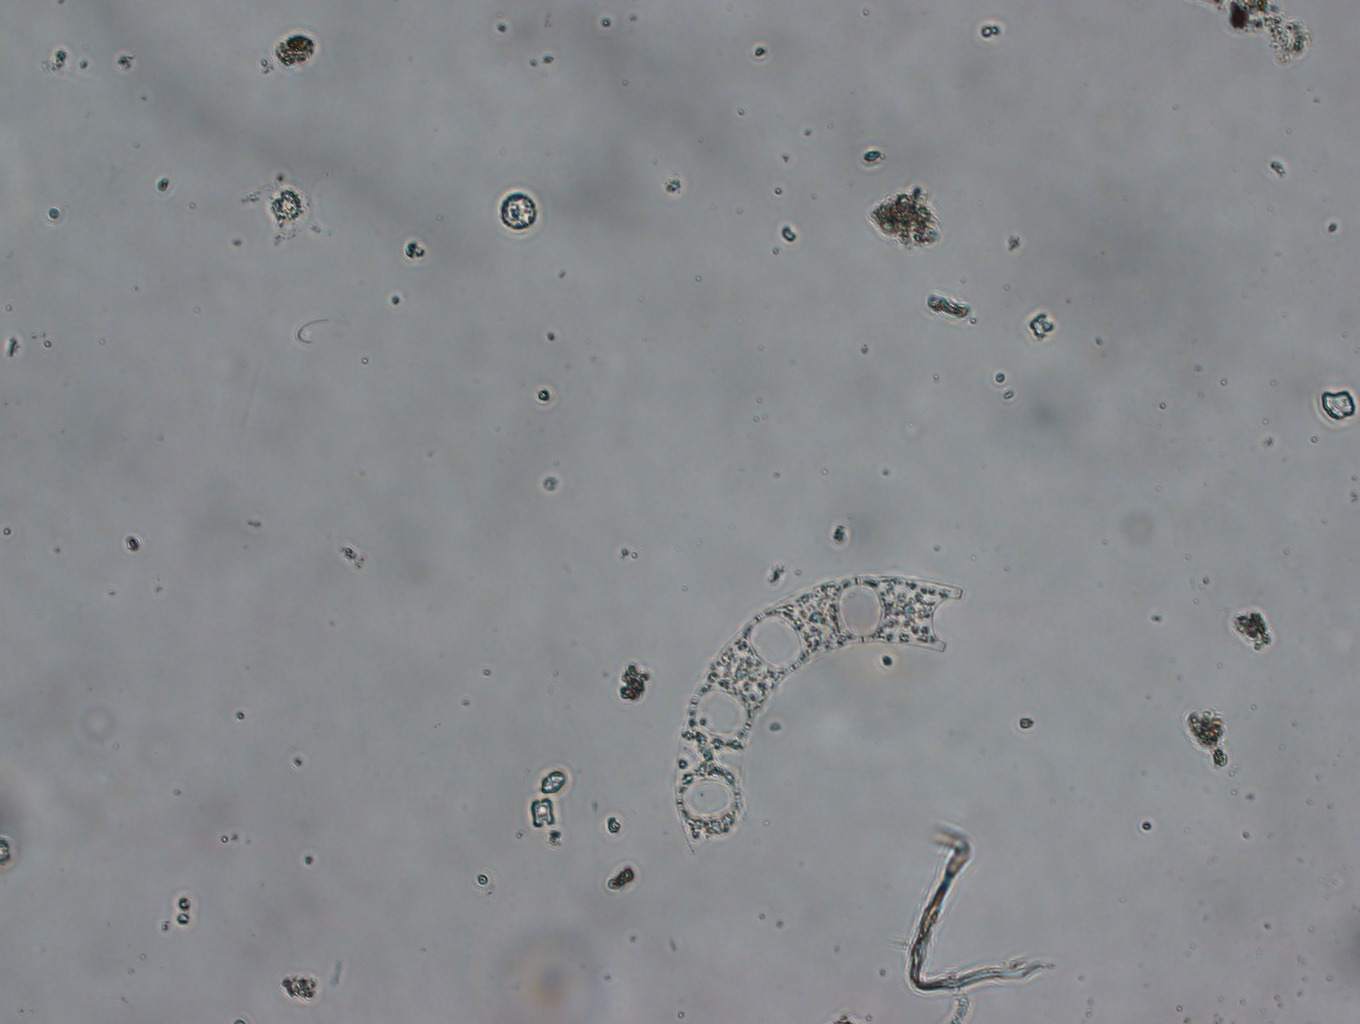eucampia: (670, 572, 1000, 862)
